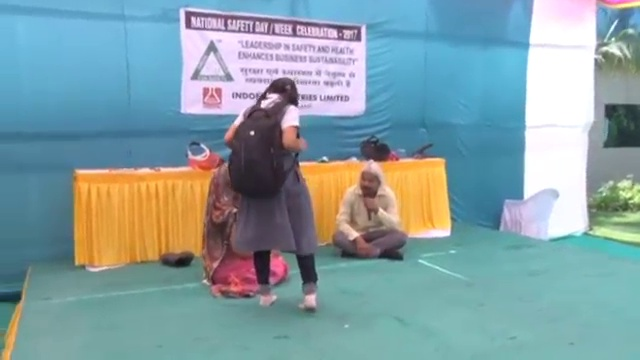helmet_off: (359, 160, 382, 198), (265, 76, 298, 102)
person: (226, 75, 320, 313), (199, 163, 289, 298), (332, 159, 410, 260)
